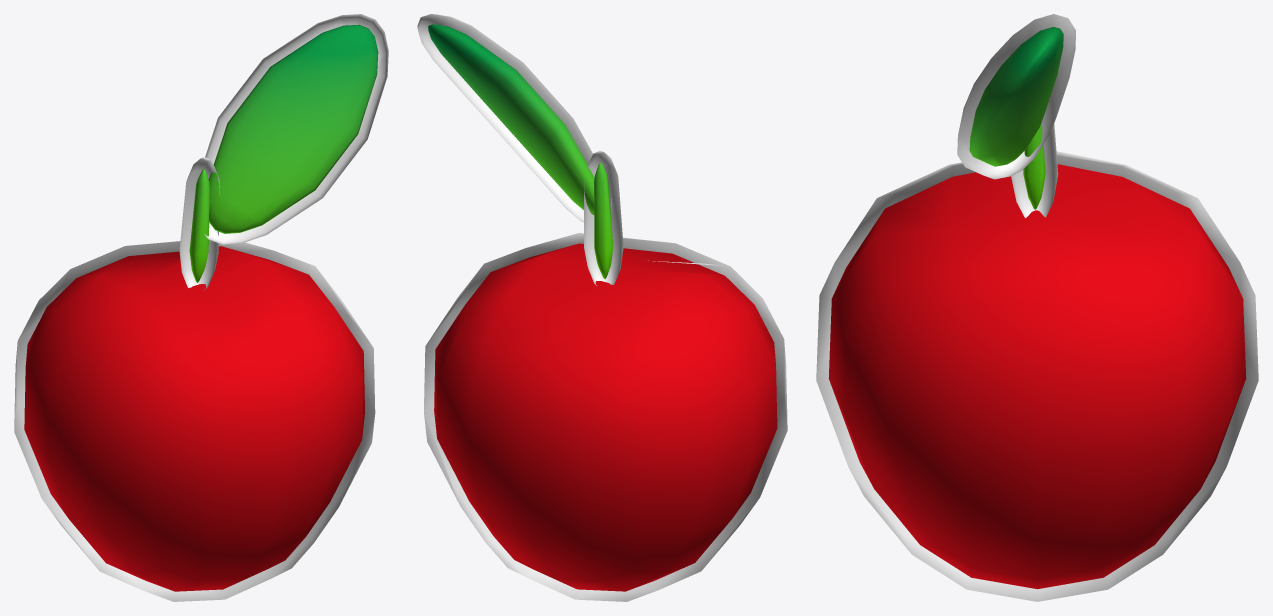
The model's file is tomato.gltf.
The picture shows the model from 3 angles, left to right: view 1: azimuth 30°, elevation 25°; view 2: azimuth 150°, elevation 25°; view 3: azimuth 270°, elevation 25°; orthographic projection. The views are drawn at different scales.
Parts seen in each view (by area): view 1: Tomato_Cube.009; view 2: Tomato_Cube.009; view 3: Tomato_Cube.009.
Part boxes in pixels (bbox=[...]): Tomato_Cube.009: bbox=[14, 14, 388, 601]; Tomato_Cube.009: bbox=[417, 14, 787, 601]; Tomato_Cube.009: bbox=[816, 14, 1258, 601].
Bounding box in the file's own units: 0.6778 × 1 × 0.6177.
Materials: 1 (1 with a texture image).
